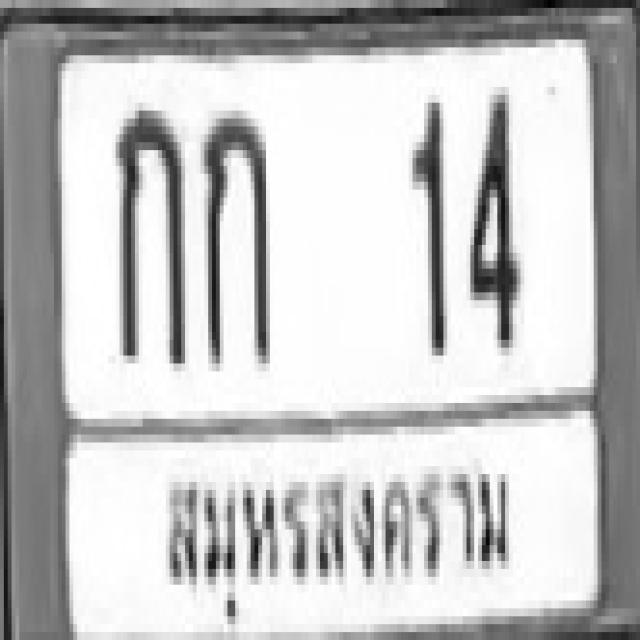-: (112, 102, 181, 356), (201, 102, 266, 356)
1: (409, 95, 443, 348)
4: (466, 87, 516, 340)
SKM: (133, 452, 530, 628)
